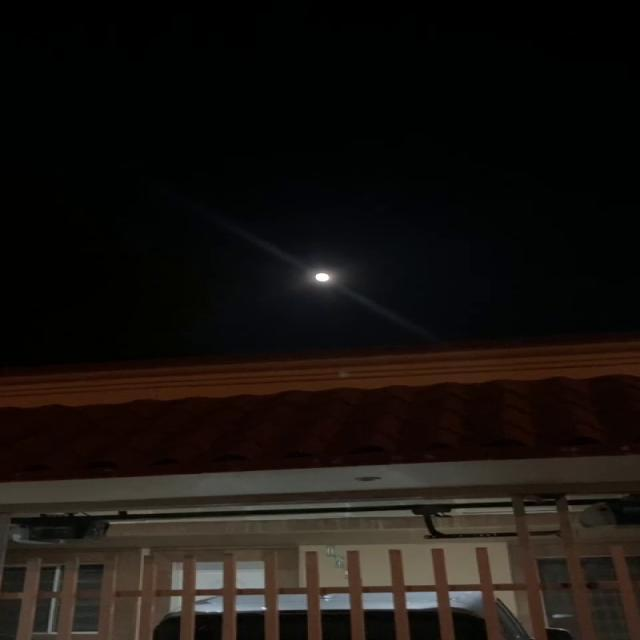moon: (310, 267, 334, 281)
